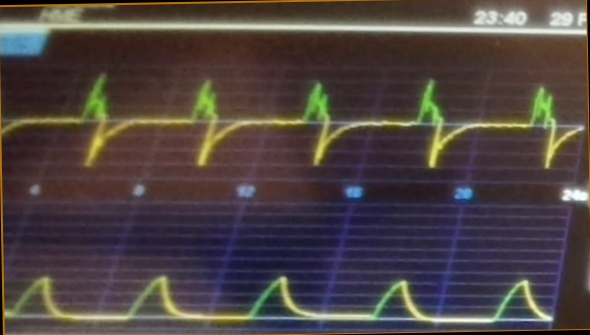Accumulation Flow: (5, 64, 582, 178)
Volume: (6, 257, 551, 326)
